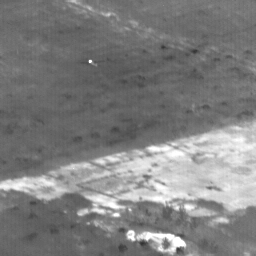aircraft: (90, 60, 92, 62)
